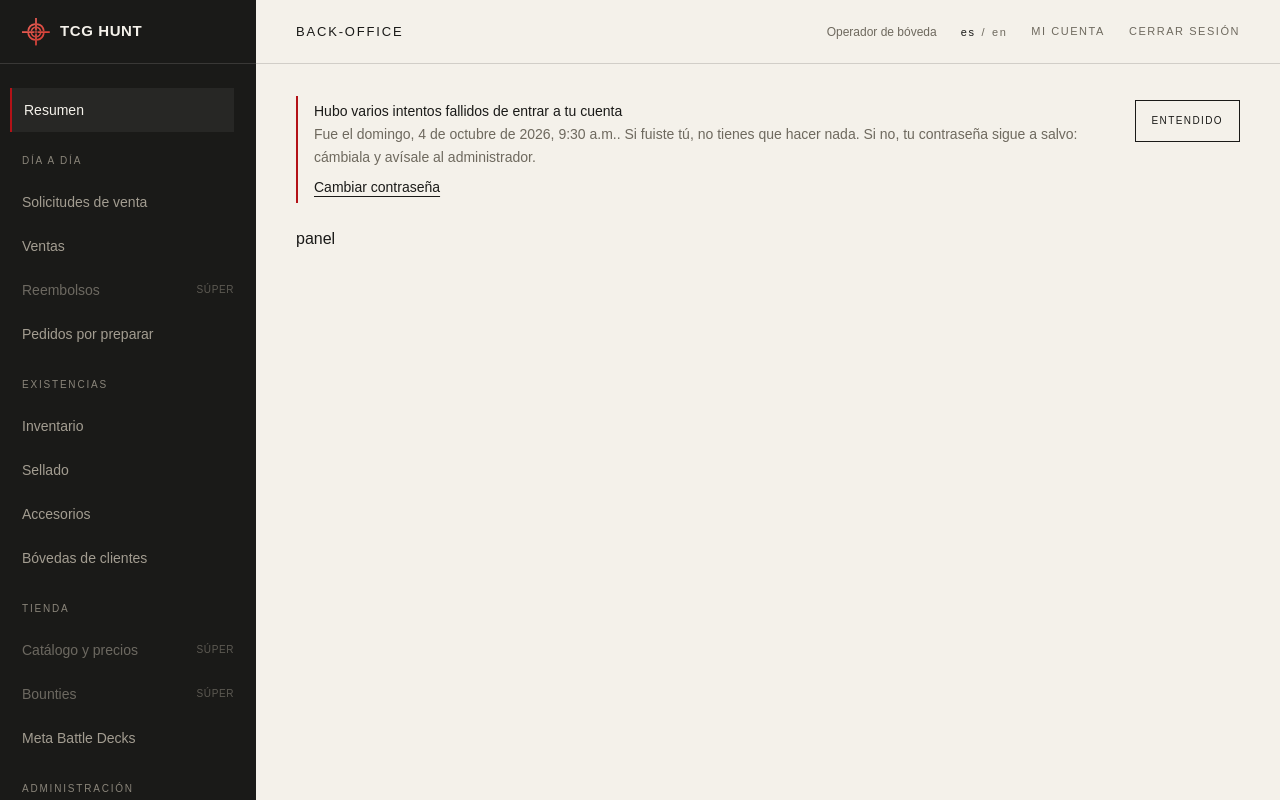
Test: UX-11 · aviso de candado en el panel › si el dismiss falla, el aviso SE QUEDA y dice que no se pudo cerrar
The width and height of the screenshot is (1280, 800).
Click the button "Entendido" at coordinates (1187, 121), box [1134,100,1240,142]
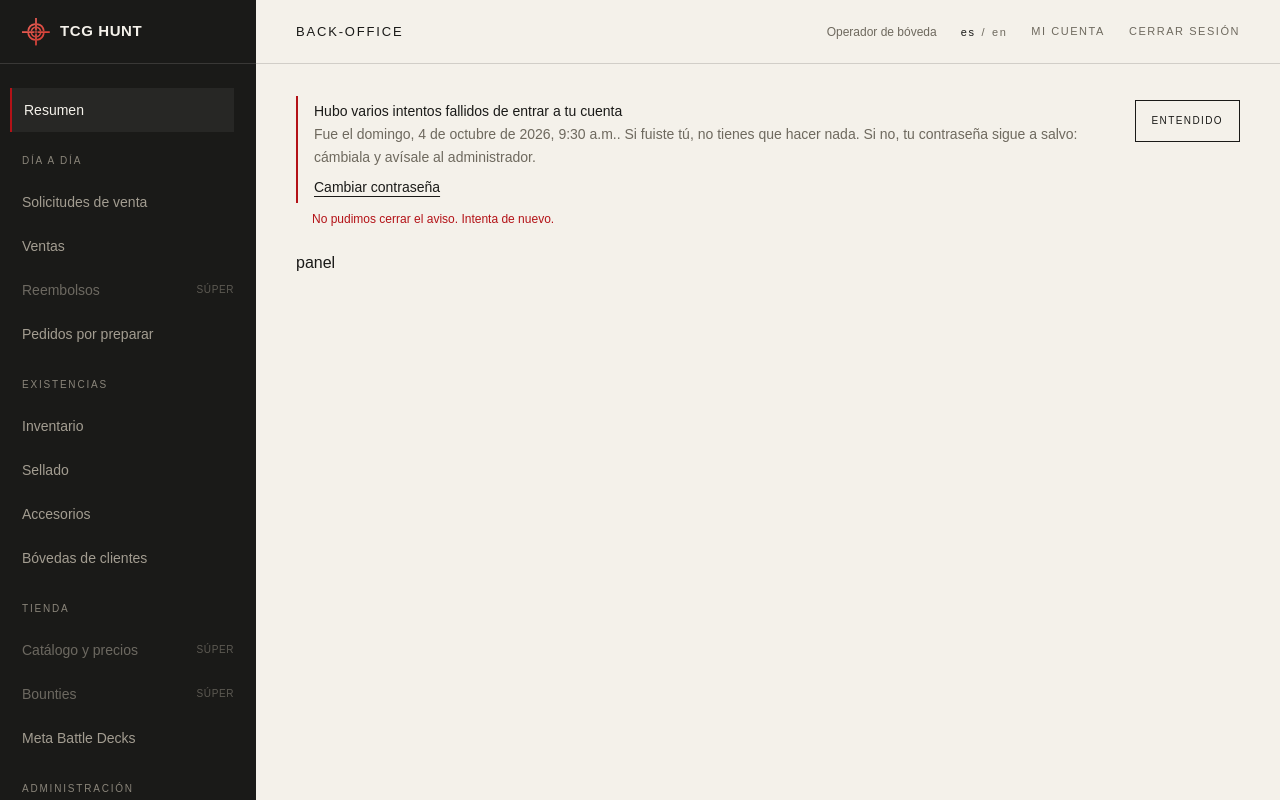
Expected: the element with test id "admin-lock-notice" shows "Hubo varios intentos fallidos", [314,103,622,119]
Now the text "No pudimos cerrar el aviso. Intenta de nuevo." is shown, box [312,212,554,226]
